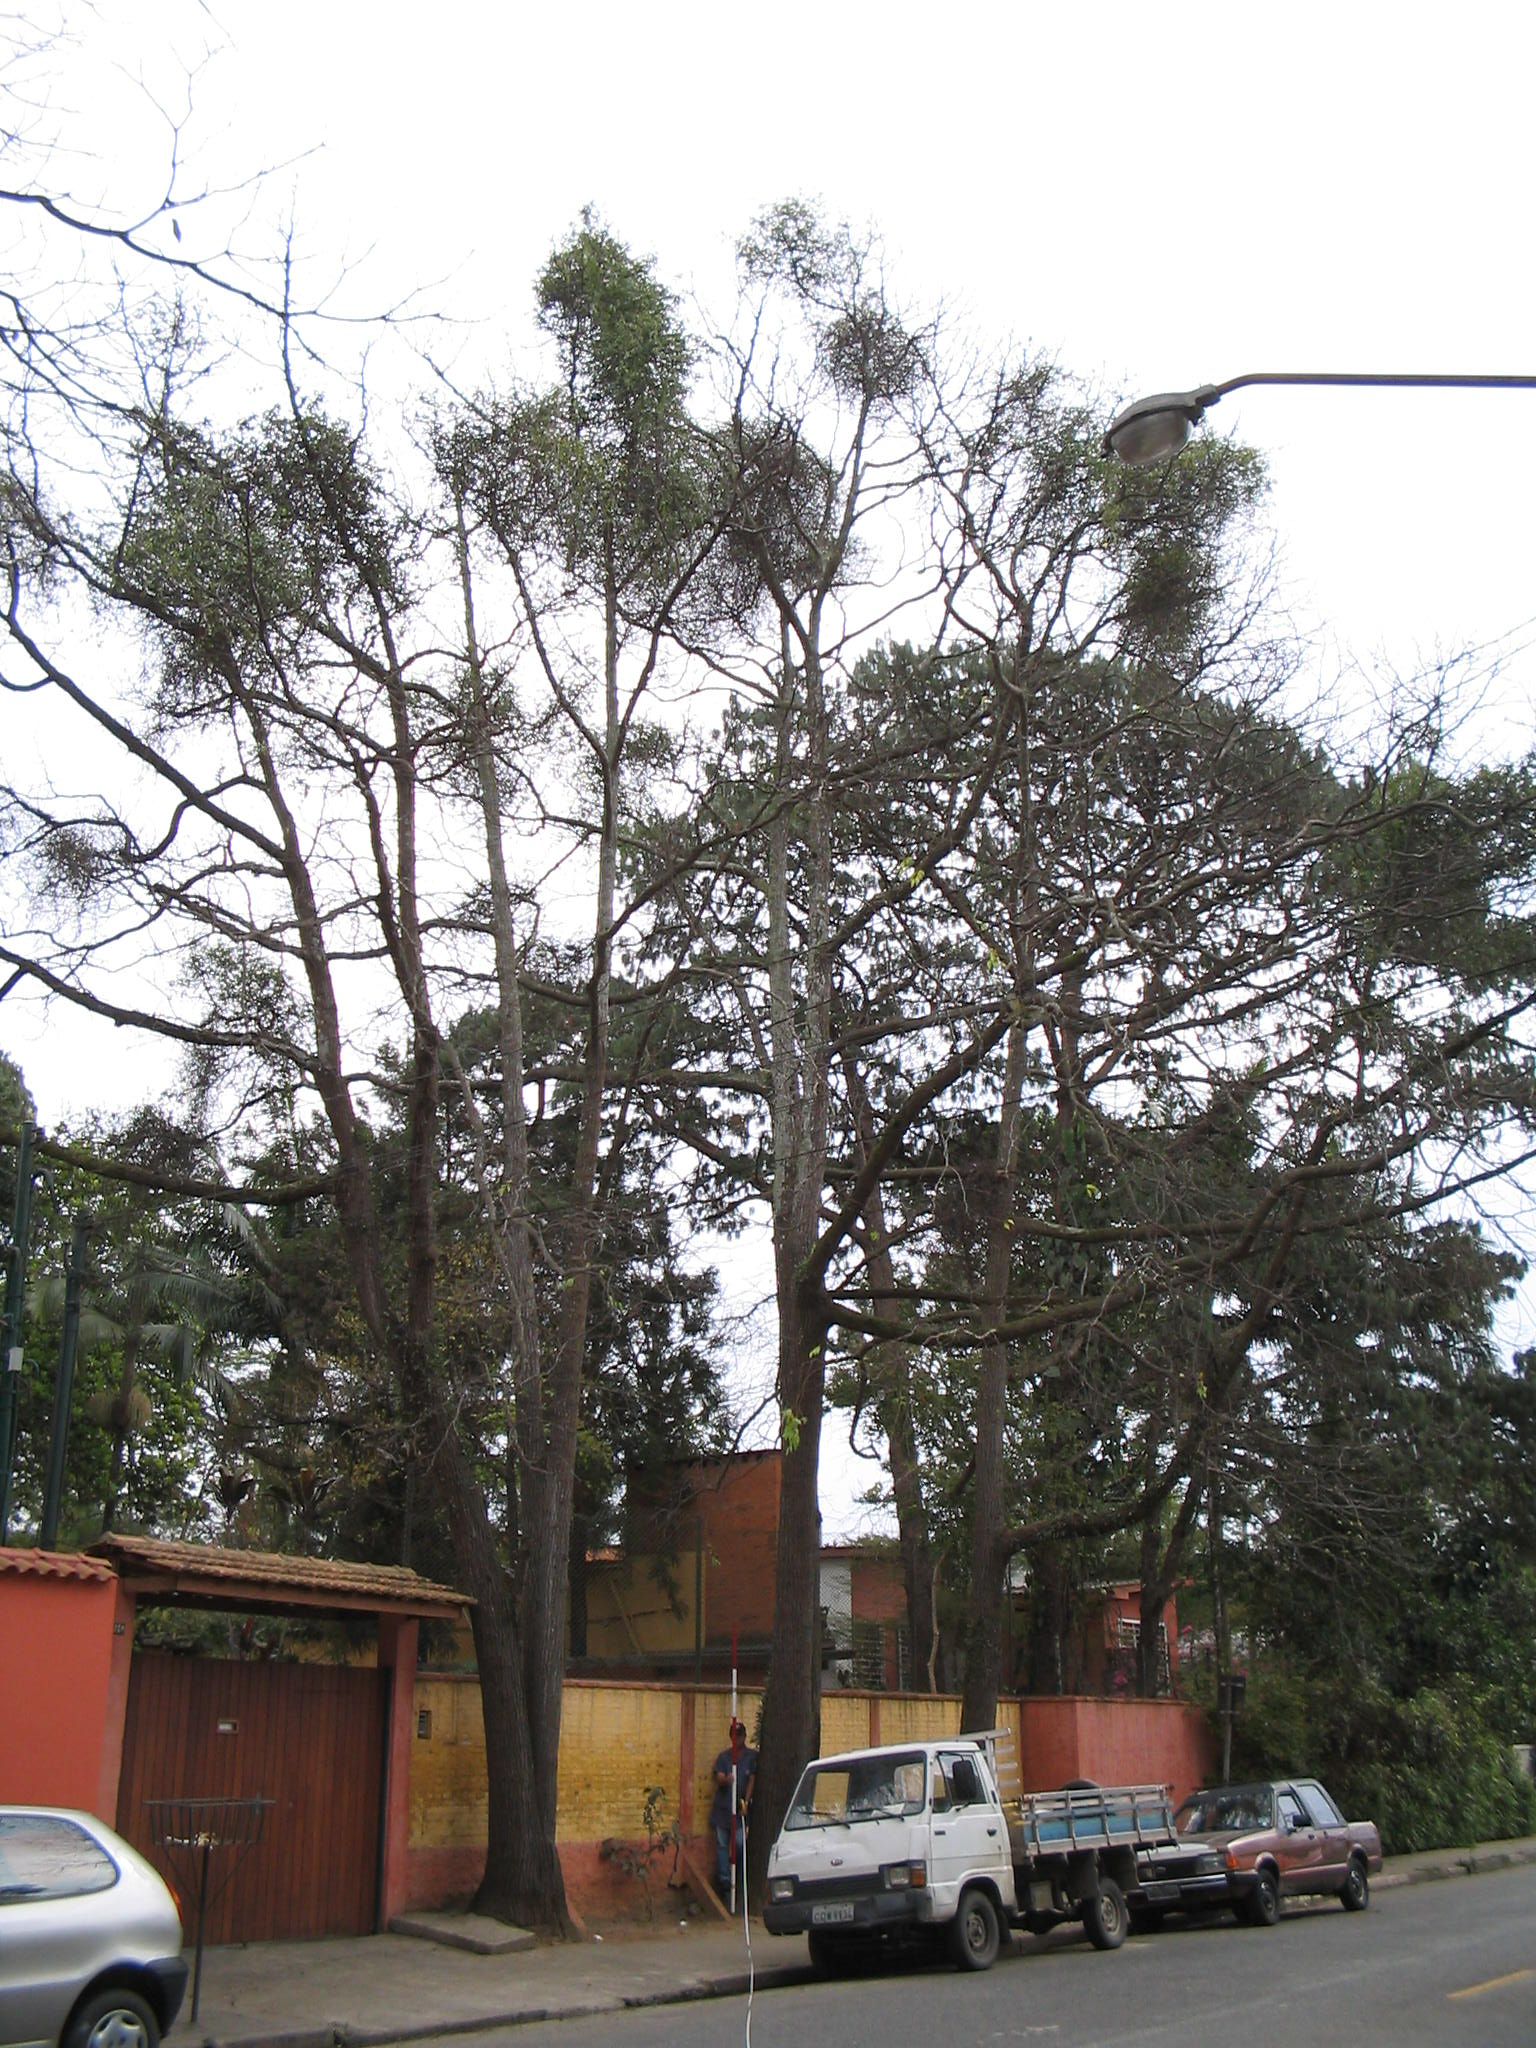crown: (21, 211, 745, 739), (870, 660, 1534, 1188)
stem: (749, 1332, 842, 1914), (440, 1598, 587, 1911), (945, 1567, 1021, 1888)
stick: (713, 1619, 750, 1909)
tree: (19, 206, 749, 1917), (608, 252, 1250, 1927), (858, 648, 1536, 1885)
